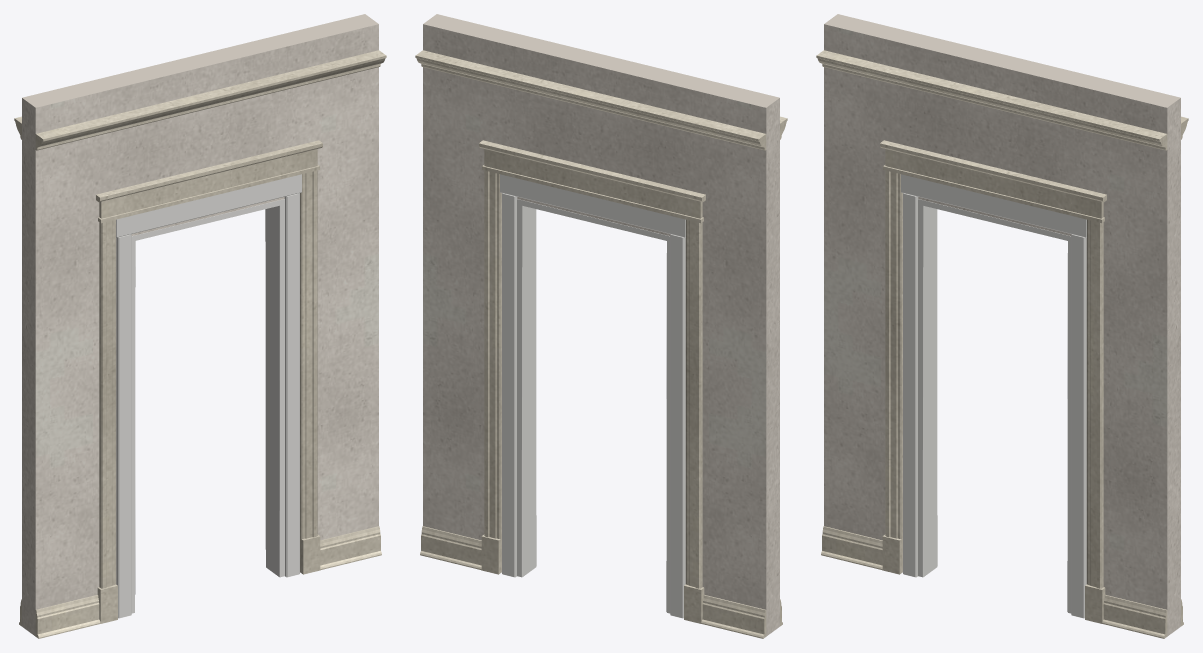
Rendered from iw_doorway.glb.
The picture shows the model from 3 angles, left to right: view 1: azimuth 30°, elevation 25°; view 2: azimuth 150°, elevation 25°; view 3: azimuth 330°, elevation 25°; orthographic projection.
Parts seen in each view (by area): view 1: iw_doorway_plaster, molduras, iw_doorway_frame; view 2: iw_doorway_plaster, molduras, iw_doorway_frame; view 3: iw_doorway_plaster, molduras, iw_doorway_frame.
Boxes of the visible parts, x1,y1,x2,y2 form: iw_doorway_plaster: (22,14,378,636); molduras: (14,50,386,638); iw_doorway_frame: (116,174,301,618); iw_doorway_plaster: (423,14,779,636); molduras: (415,50,787,638); iw_doorway_frame: (500,174,685,618); iw_doorway_plaster: (824,14,1180,636); molduras: (816,50,1188,638); iw_doorway_frame: (901,174,1086,618).
Bounding box in the file's own units: 2 × 2.94 × 0.29.
3 materials, 2 textured.
